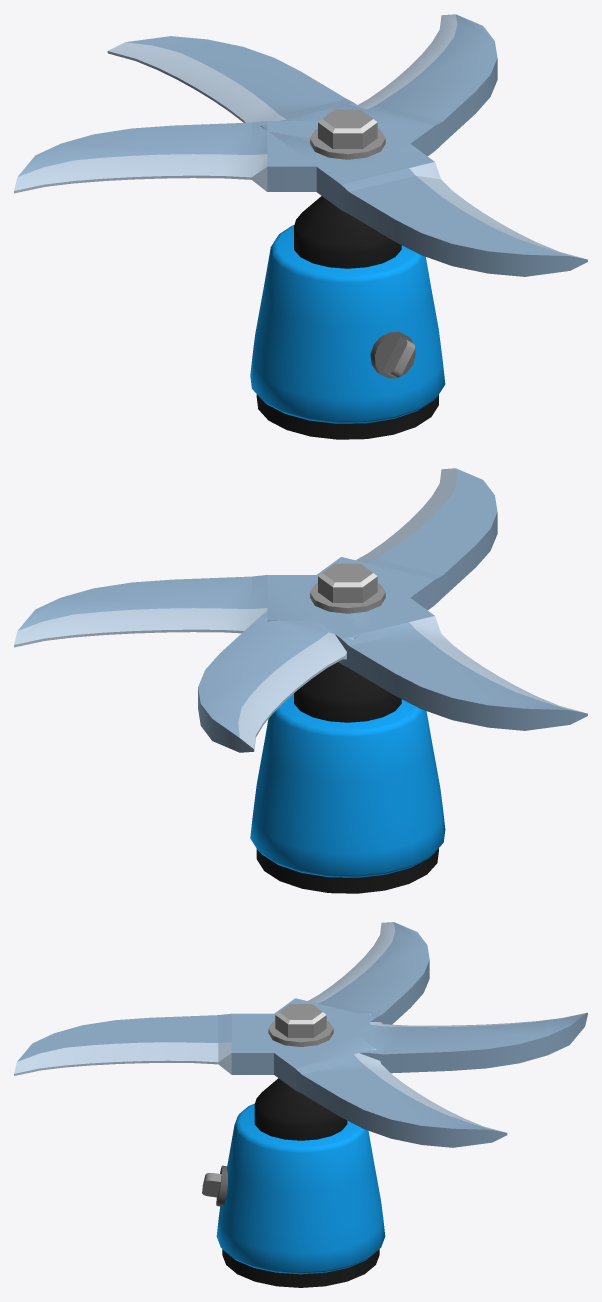
The model's file is Blender.fbx.
3 renders of one model, top to bottom at view 1: azimuth 30°, elevation 25°; view 2: azimuth 150°, elevation 25°; view 3: azimuth 270°, elevation 25°, orthographic. The views are drawn at different scales.
Parts seen in each view (by area): view 1: Blender, BlenderBlade_LVL3, BlenderBlade_LVL1, BlenderBlade_LVL2; view 2: Blender, BlenderBlade_LVL3, BlenderBlade_LVL1, BlenderBlade_LVL2; view 3: Blender, BlenderBlade_LVL3, BlenderBlade_LVL2, BlenderBlade_LVL1.
Boxes of the visible parts, x1,y1,x2,y2 form: Blender: [250, 109, 445, 439]; BlenderBlade_LVL3: [14, 14, 587, 276]; BlenderBlade_LVL1: [107, 36, 398, 167]; BlenderBlade_LVL2: [260, 103, 587, 275]; Blender: [250, 563, 445, 893]; BlenderBlade_LVL3: [14, 512, 587, 730]; BlenderBlade_LVL1: [198, 577, 383, 752]; BlenderBlade_LVL2: [262, 468, 497, 638]; Blender: [202, 1004, 385, 1287]; BlenderBlade_LVL3: [29, 922, 507, 1147]; BlenderBlade_LVL2: [14, 1013, 370, 1075]; BlenderBlade_LVL1: [251, 1012, 587, 1073].
Bounding box in the file's own units: 3.87 × 2.04 × 4.38.
